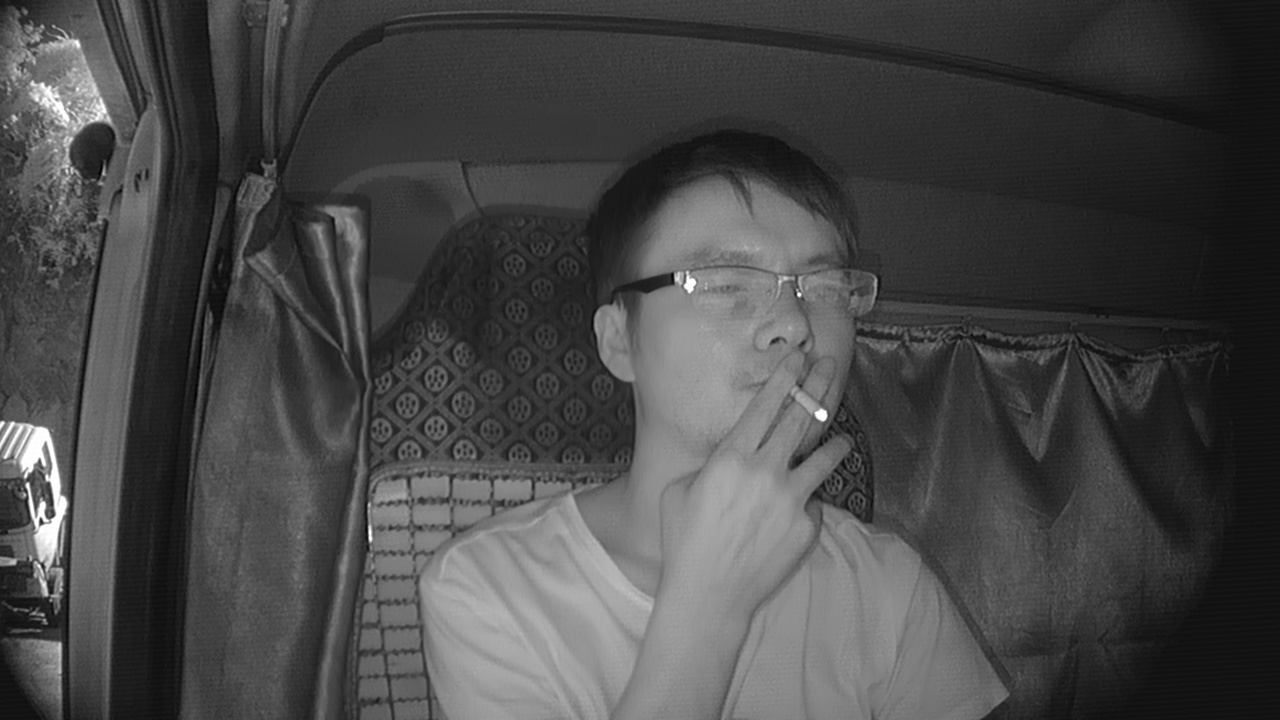hand: (698, 355, 846, 552)
